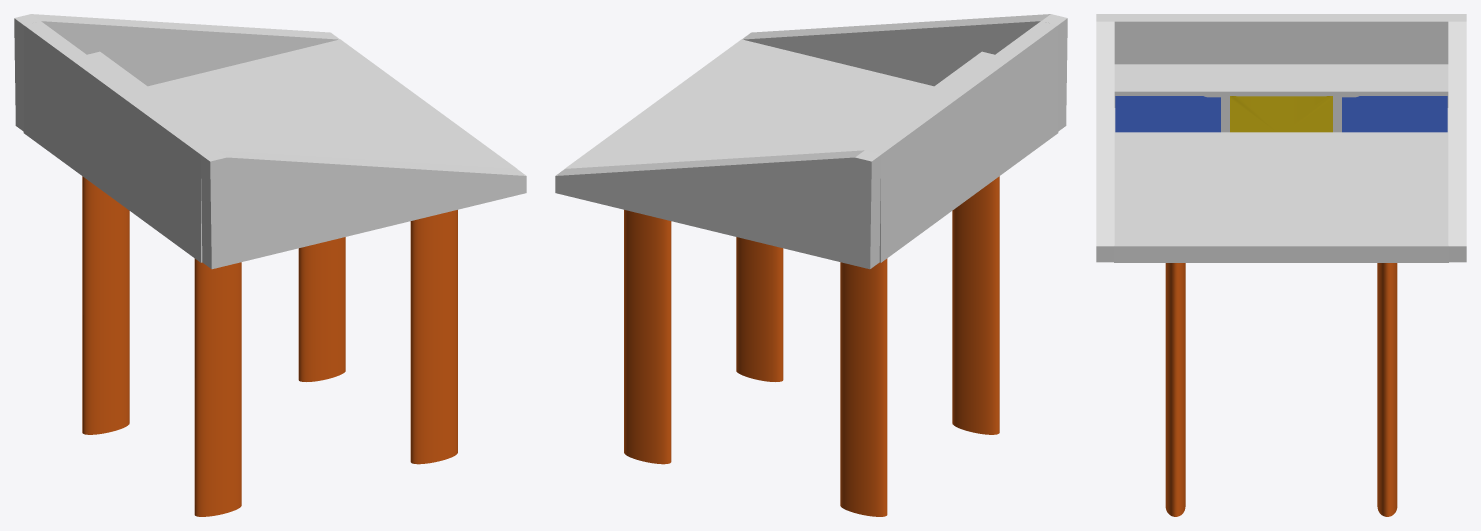
The model's file is table.fbx.
3 renders of one model, left to right at view 1: azimuth 30°, elevation 25°; view 2: azimuth 150°, elevation 25°; view 3: azimuth 270°, elevation 25°, orthographic. The views are drawn at different scales.
Visible parts, largest first — view 1: Plane.002, Plane, Circle.001, Plane.001, Circle, Plane.003; view 2: Plane.002, Plane, Circle.001, Plane.001, Circle, Plane.003; view 3: Plane, Plane.001, Plane.004, Plane.003, Circle, Plane.002.
Part boxes in pixels (x1,y1,x2,y2): Plane.002: (14,14,526,269); Plane: (148,39,516,168); Circle.001: (82,176,241,516); Plane.001: (23,21,216,262); Circle: (298,210,457,464); Plane.003: (87,51,236,151); Plane.002: (555,14,1067,269); Plane: (565,39,933,168); Circle.001: (840,176,999,516); Plane.001: (865,21,1058,262); Circle: (624,210,783,464); Plane.003: (845,51,994,151); Plane: (1114,108,1448,262); Plane.001: (1114,14,1448,107); Plane.004: (1115,96,1447,132); Plane.003: (1114,64,1448,95); Circle: (1165,263,1397,516); Plane.002: (1096,14,1466,262).
Size of the model in its own units: 92 by 109 by 98.68.
